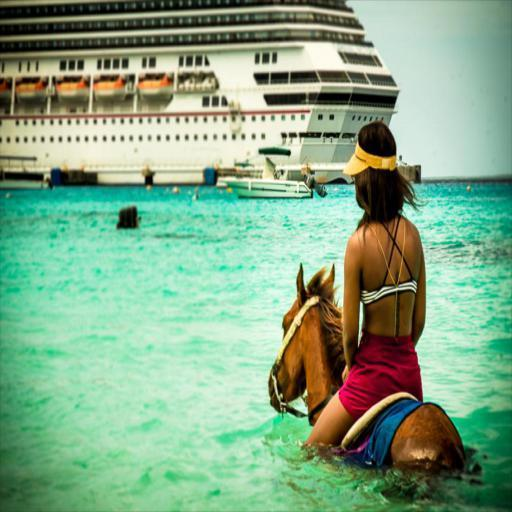horse: (266, 258, 466, 482)
